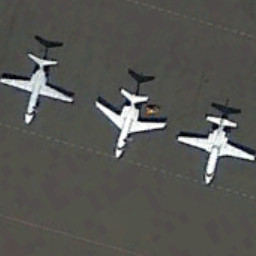Airplane: (173, 106, 256, 190), (92, 80, 169, 166), (1, 50, 78, 130)
